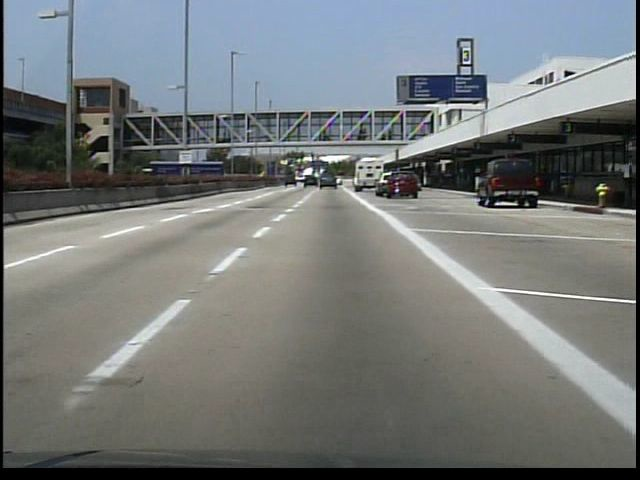person: (614, 155, 635, 207), (408, 170, 424, 196)
